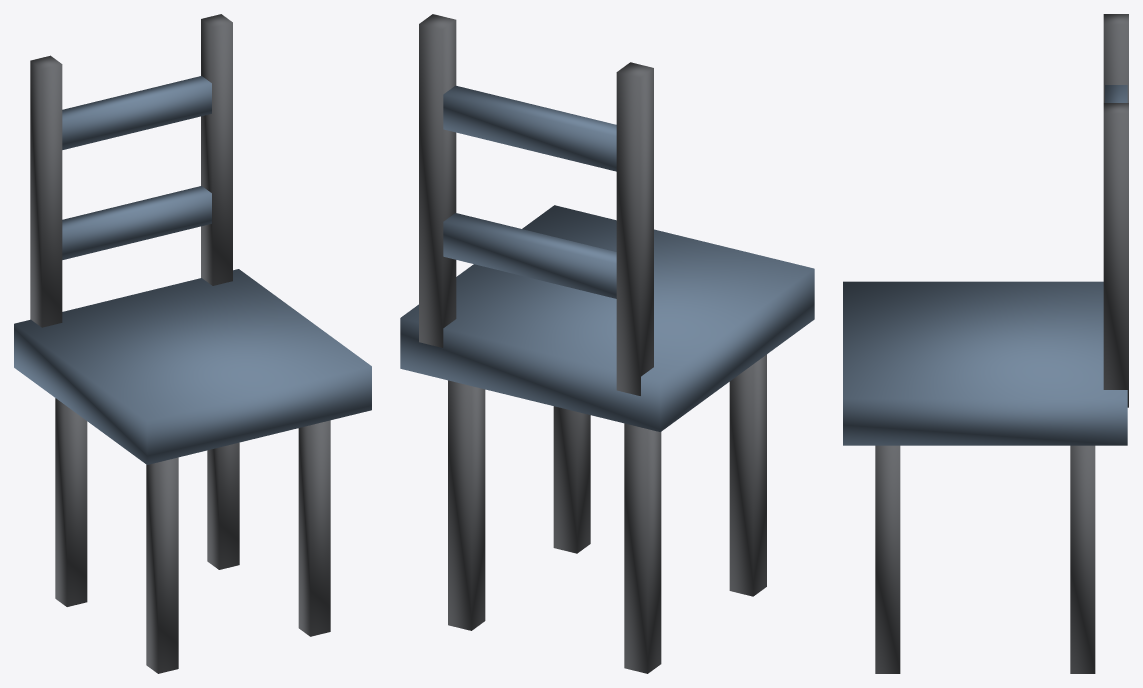
Rendered from station_bench__tall.glb.
The picture shows the model from 3 angles, left to right: view 1: azimuth 30°, elevation 25°; view 2: azimuth 150°, elevation 25°; view 3: azimuth 270°, elevation 25°; orthographic projection. The views are drawn at different scales.
Visible parts, largest first — view 1: world; view 2: world; view 3: world.
Part boxes in pixels (left/top/right/bottom): world: left=14, top=14, right=371, bottom=673; world: left=400, top=14, right=814, bottom=673; world: left=843, top=14, right=1128, bottom=673.
Bounding box in the file's own units: 0.4959 × 1.12 × 0.5112.
